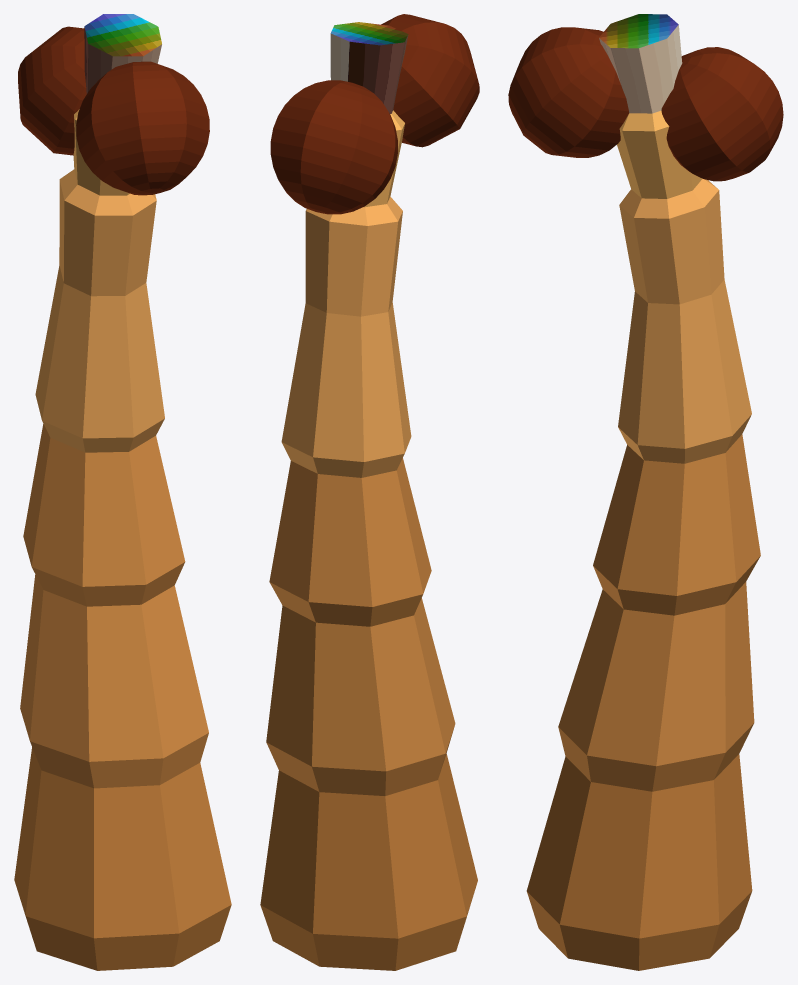
The model's file is Tronco y cocos Palmera.fbx.
3 renders of one model, left to right at view 1: azimuth 30°, elevation 25°; view 2: azimuth 150°, elevation 25°; view 3: azimuth 270°, elevation 25°, orthographic.
Parts seen in each view (by area): view 1: Tronco, Cocos; view 2: Tronco, Cocos; view 3: Tronco, Cocos.
Part boxes in pixels (<box>): Tronco: <box>14,14,231,970</box>; Cocos: <box>18,26,209,195</box>; Tronco: <box>260,22,477,970</box>; Cocos: <box>270,14,479,214</box>; Tronco: <box>526,14,760,970</box>; Cocos: <box>508,27,783,181</box>.
Bounding box in the file's own units: 225 × 996 × 275.
Materials: 2 (2 with a texture image).
